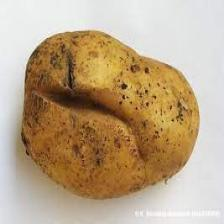Damaged potato: (19, 26, 201, 201)
